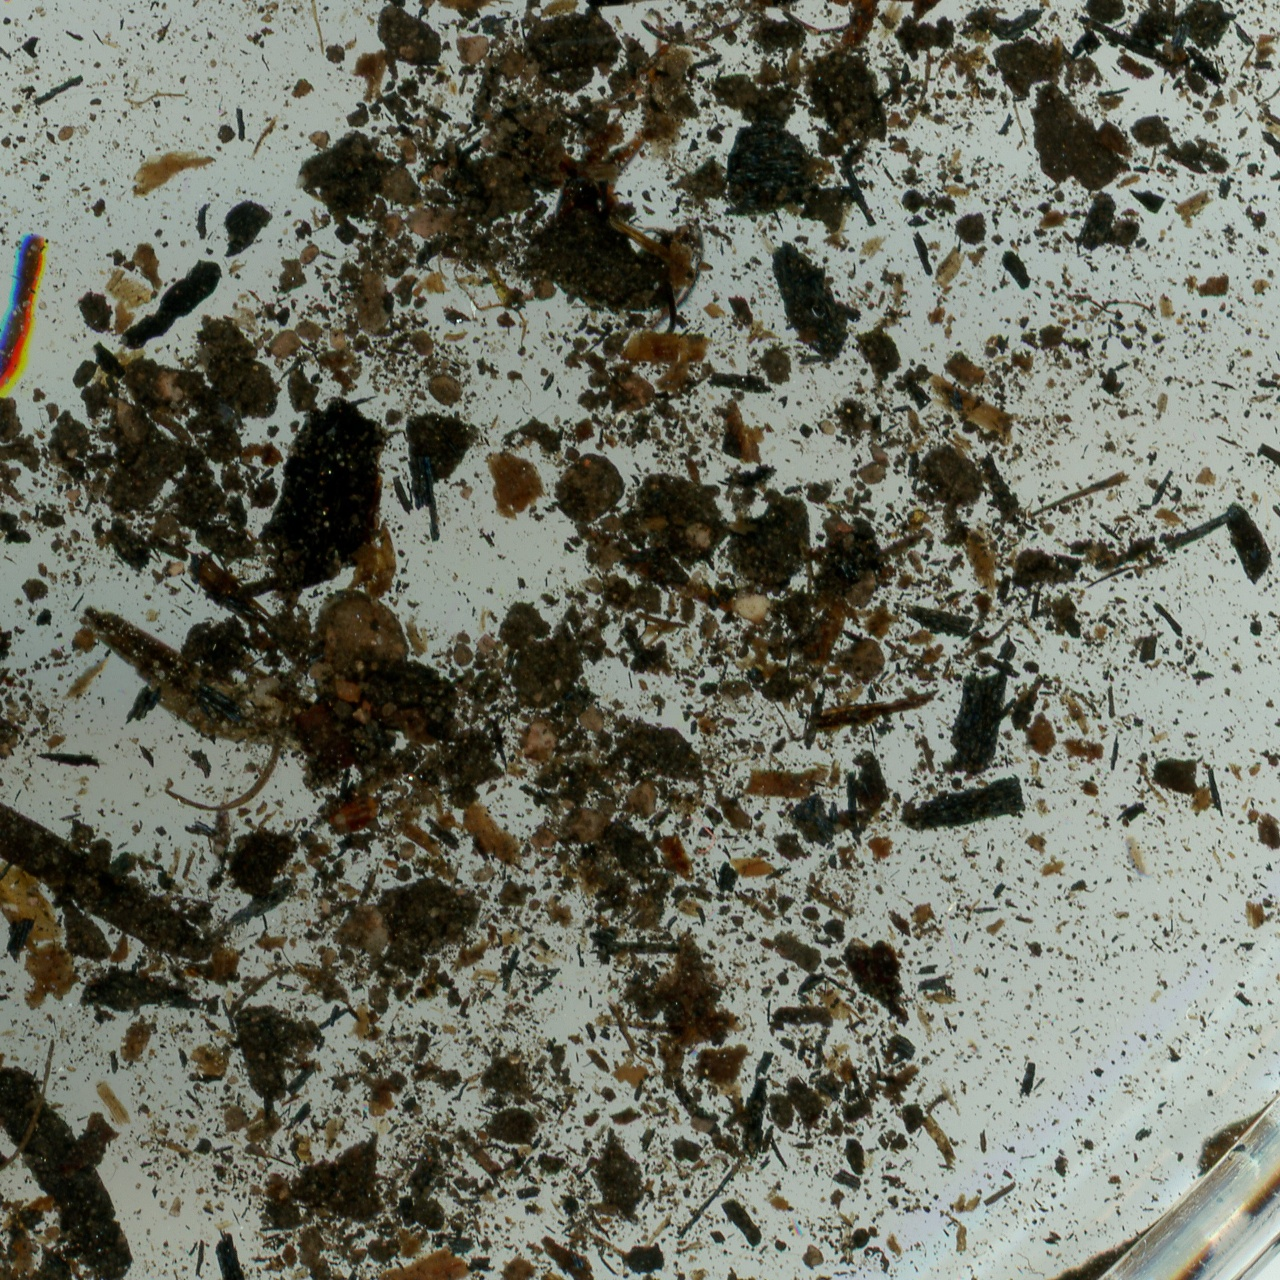arthropod: (1121, 832, 1156, 884)
